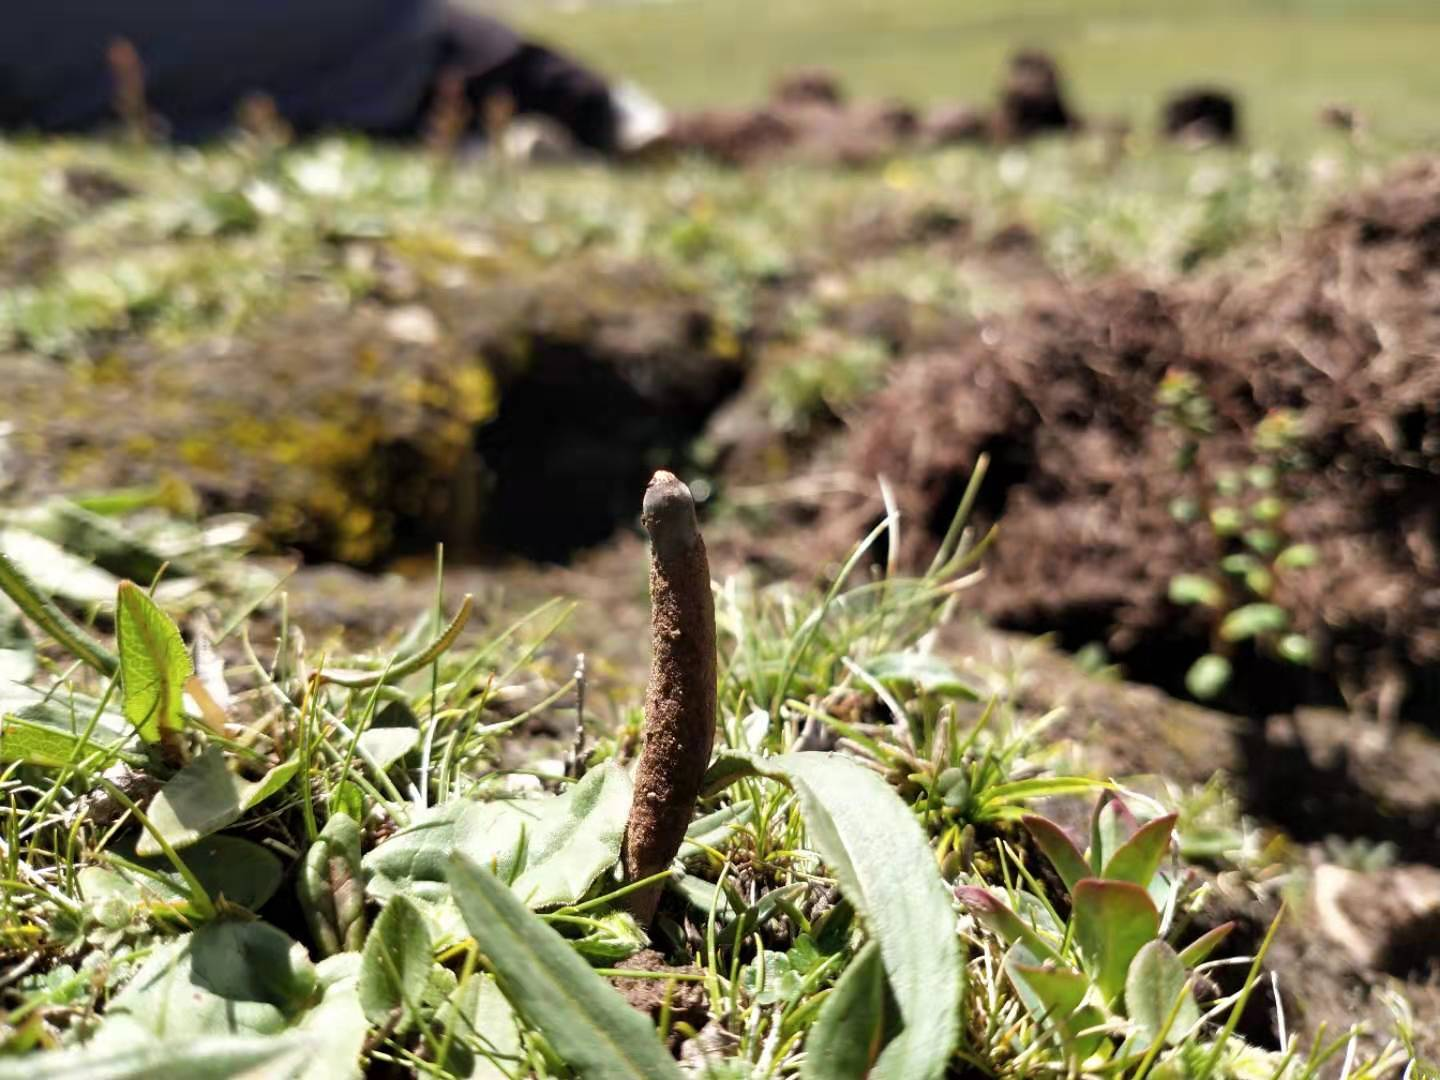Chongcao: (626, 470, 719, 894)
